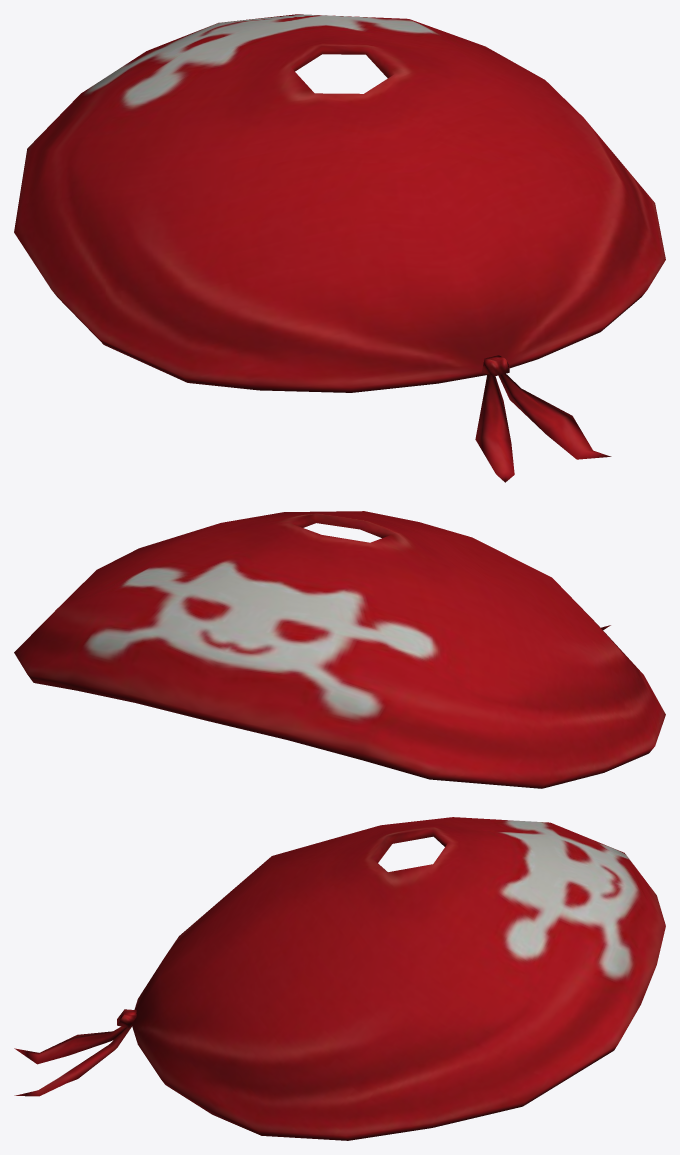
Rendered from pirateBandana.glb.
3 views of the same model, one above another, from view 1: azimuth 30°, elevation 25°; view 2: azimuth 150°, elevation 25°; view 3: azimuth 270°, elevation 25° (orthographic). The views are drawn at different scales.
Parts seen in each view (by area): view 1: pirateBandana; view 2: pirateBandana; view 3: pirateBandana.
Boxes of the visible parts, x1,y1,x2,y2 form: pirateBandana: (14, 14, 665, 482); pirateBandana: (14, 511, 665, 788); pirateBandana: (14, 817, 665, 1140).
Bounding box in the file's own units: 1.36 × 0.5972 × 1.49.
Materials: 1 (1 with a texture image).
